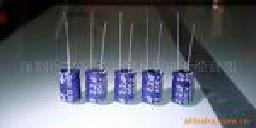Electrolytic-Capacitor: (52, 4, 83, 105), (169, 8, 199, 109), (138, 6, 165, 109), (84, 8, 109, 105), (113, 12, 135, 107)
